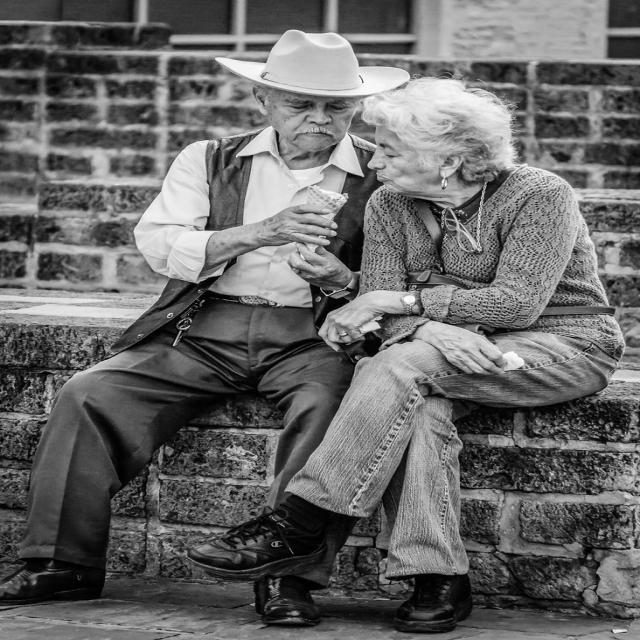idoso sentado: (346, 45, 626, 620), (68, 51, 340, 620)
